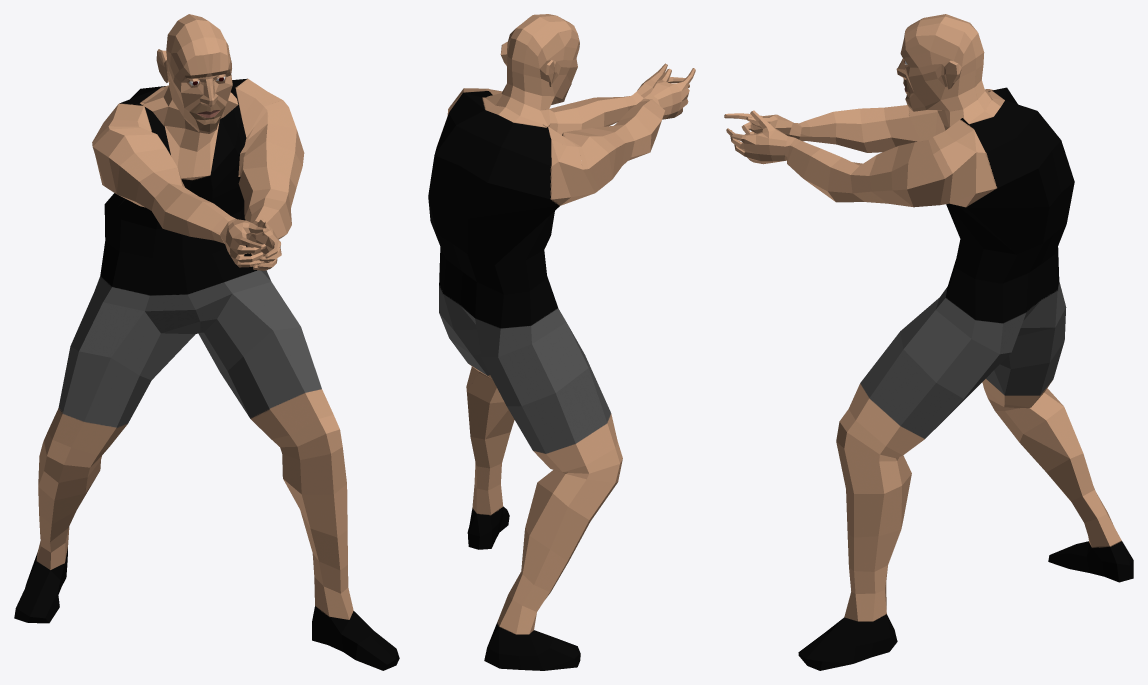
Rendered from PlayerShoot(26).obj.
3 views of the same model, side by side, from view 1: azimuth 30°, elevation 25°; view 2: azimuth 150°, elevation 25°; view 3: azimuth 270°, elevation 25° (orthographic). The views are drawn at different scales.
Parts seen in each view (by area): view 1: Plane002; view 2: Plane002; view 3: Plane002.
Boxes of the visible parts, x1,y1,x2,y2 form: Plane002: (14, 14, 399, 670); Plane002: (428, 14, 695, 670); Plane002: (724, 14, 1133, 670).
Size of the model in its own units: 713 by 1664 by 1045.
